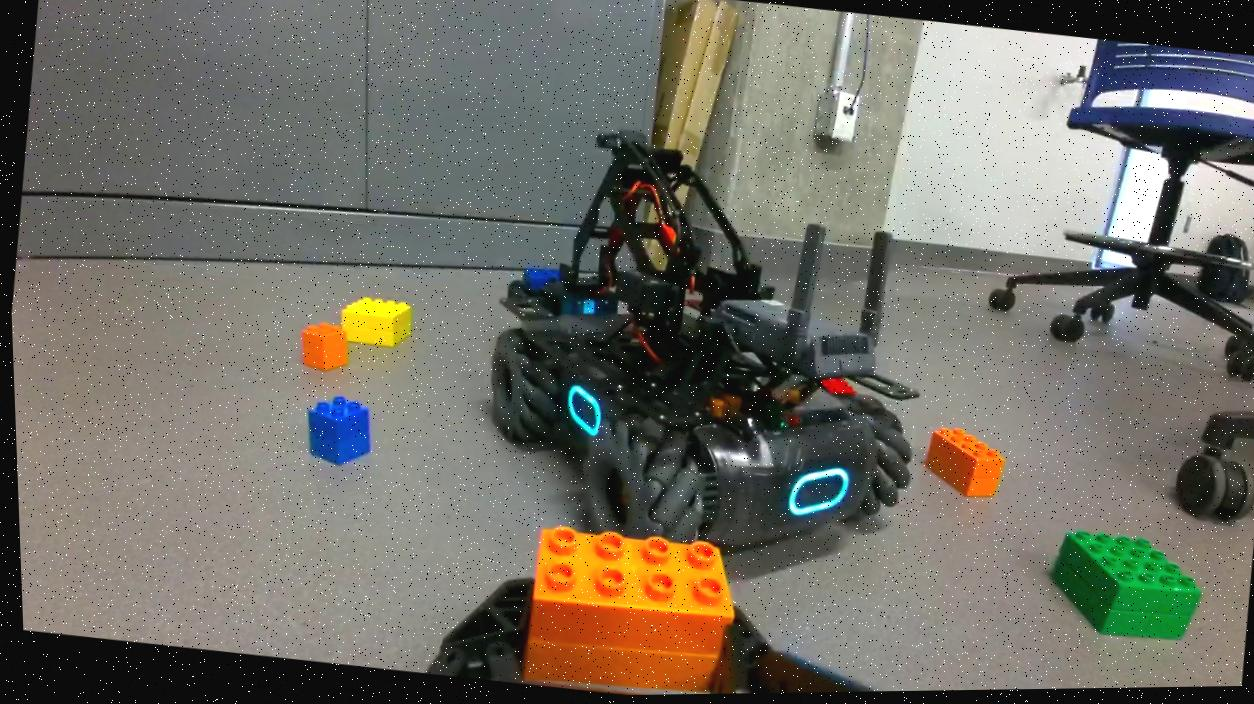2x2lego: (297, 393, 375, 469), (294, 320, 351, 374)
2x4lego: (516, 523, 741, 698), (914, 425, 1005, 504)
4x4lego: (1036, 529, 1205, 652), (335, 292, 413, 350)
